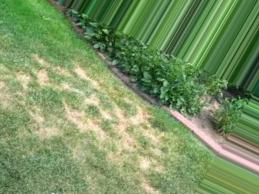patch: (117, 111, 148, 150), (61, 104, 96, 133), (129, 156, 156, 192), (32, 70, 54, 84)
